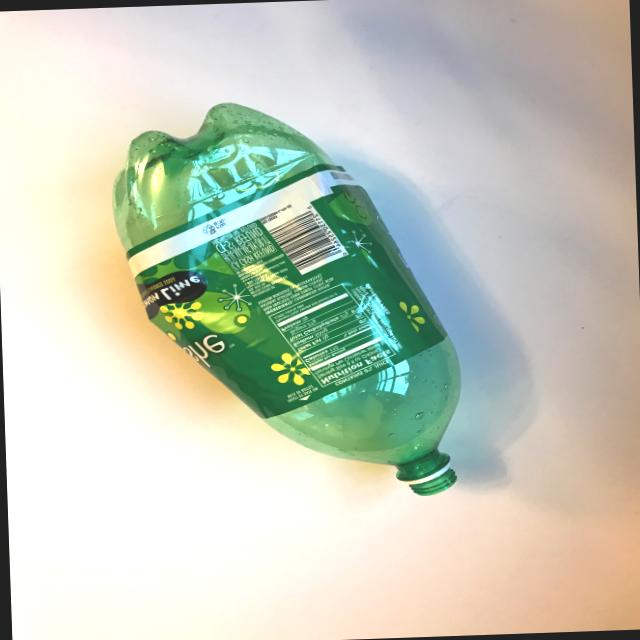Plastic: (102, 81, 492, 522)
